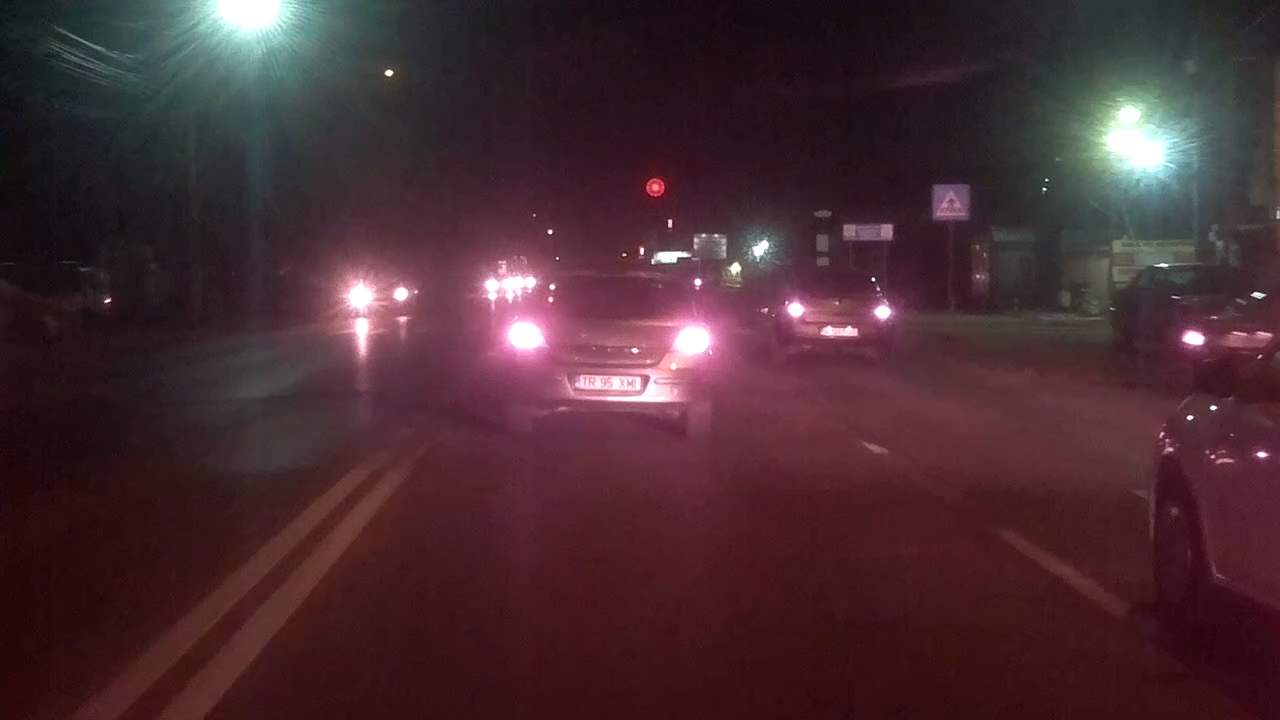license-plate: (567, 372, 644, 392)
